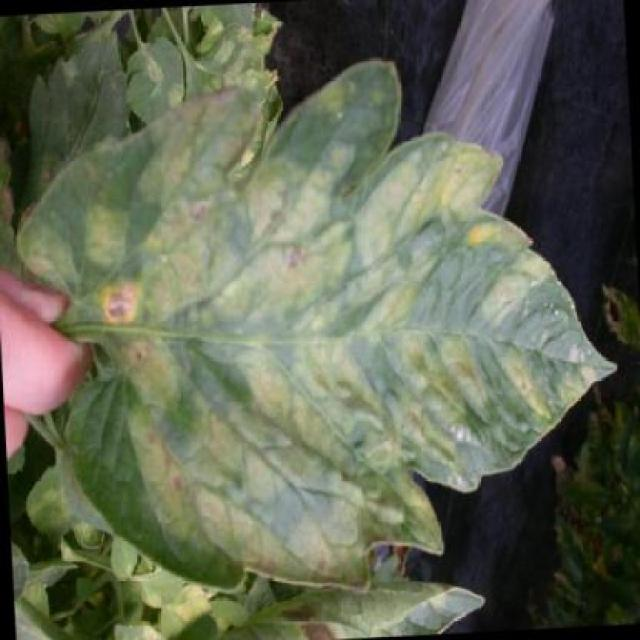Leaf Mold: (60, 45, 637, 617)
